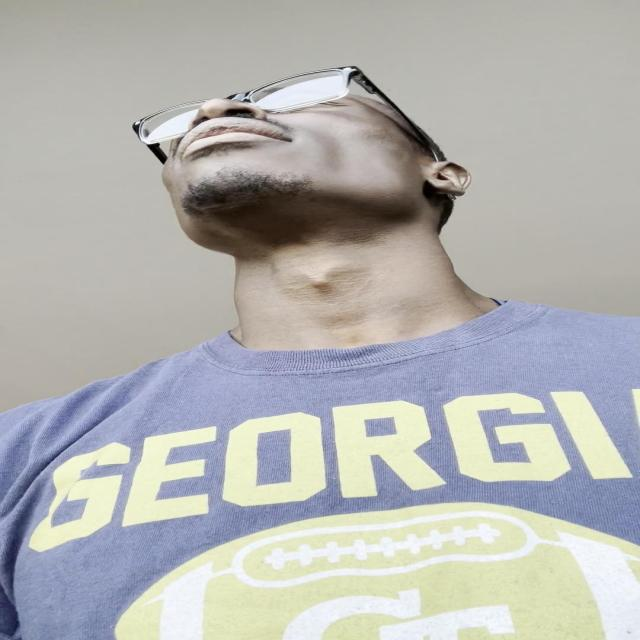NO-Mask: (137, 78, 454, 260)
